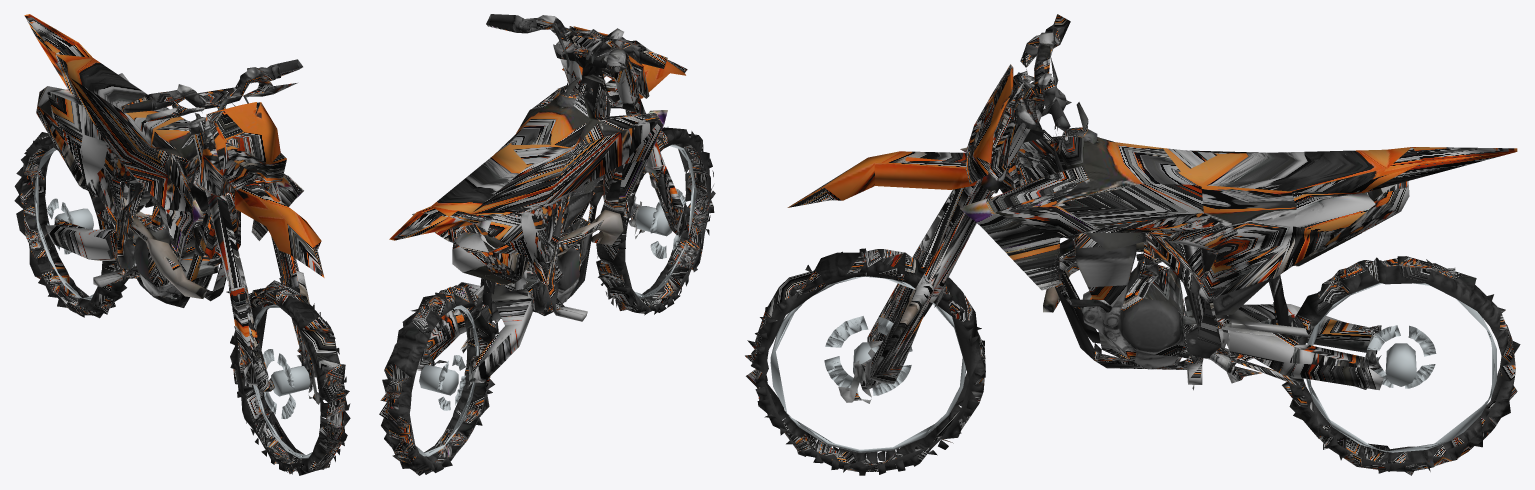
Rendered from orange-cross-4000-D2ugd7_B.glb.
3 renders of one model, left to right at view 1: azimuth 30°, elevation 25°; view 2: azimuth 150°, elevation 25°; view 3: azimuth 270°, elevation 25°, orthographic. The views are drawn at different scales.
Visible parts, largest first — view 1: SM_Tripo_Body, SM_Tripo_Fork, SM_Tripo_WheelFront, SM_Tripo_WheelRear, SM_Tripo_Handlebar, SM_Tripo_WheelFront_CleanSpokes, SM_Tripo_Swingarm_Chain, SM_Tripo_WheelRear_CleanSpokes; view 2: SM_Tripo_Body, SM_Tripo_WheelRear, SM_Tripo_WheelFront, SM_Tripo_Fork, SM_Tripo_Swingarm_Chain, SM_Tripo_Handlebar, SM_Tripo_WheelRear_CleanSpokes, SM_Tripo_WheelFront_CleanSpokes; view 3: SM_Tripo_Body, SM_Tripo_Fork, SM_Tripo_WheelRear, SM_Tripo_WheelFront, SM_Tripo_Swingarm_Chain, SM_Tripo_WheelRear_CleanSpokes, SM_Tripo_WheelFront_CleanSpokes, SM_Tripo_Handlebar.
Part boxes in pixels (left/top/right/bottom): SM_Tripo_Body: left=24, top=14, right=297, bottom=307; SM_Tripo_Fork: left=145, top=66, right=350, bottom=475; SM_Tripo_WheelFront: left=230, top=280, right=350, bottom=474; SM_Tripo_WheelRear: left=14, top=132, right=128, bottom=318; SM_Tripo_Handlebar: left=121, top=59, right=302, bottom=140; SM_Tripo_WheelFront_CleanSpokes: left=253, top=304, right=327, bottom=458; SM_Tripo_Swingarm_Chain: left=45, top=214, right=151, bottom=262; SM_Tripo_WheelRear_CleanSpokes: left=34, top=147, right=93, bottom=300; SM_Tripo_Body: left=389, top=65, right=664, bottom=321; SM_Tripo_WheelRear: left=379, top=285, right=496, bottom=475; SM_Tripo_WheelFront: left=596, top=127, right=713, bottom=313; SM_Tripo_Fork: left=526, top=15, right=715, bottom=315; SM_Tripo_Swingarm_Chain: left=417, top=274, right=546, bottom=386; SM_Tripo_Handlebar: left=486, top=14, right=667, bottom=72; SM_Tripo_WheelRear_CleanSpokes: left=415, top=305, right=479, bottom=456; SM_Tripo_WheelFront_CleanSpokes: left=634, top=144, right=696, bottom=298; SM_Tripo_Body: left=945, top=102, right=1517, bottom=390; SM_Tripo_Fork: left=751, top=24, right=1071, bottom=475; SM_Tripo_WheelRear: left=1280, top=256, right=1520, bottom=475; SM_Tripo_WheelFront: left=745, top=249, right=985, bottom=471; SM_Tripo_Swingarm_Chain: left=1224, top=231, right=1383, bottom=390; SM_Tripo_WheelRear_CleanSpokes: left=1306, top=283, right=1496, bottom=452; SM_Tripo_WheelFront_CleanSpokes: left=770, top=276, right=966, bottom=452; SM_Tripo_Handlebar: left=990, top=14, right=1070, bottom=131.
Size of the model in its own units: 0.8363 by 1.53 by 2.56.
Materials: 2 (1 with a texture image).
